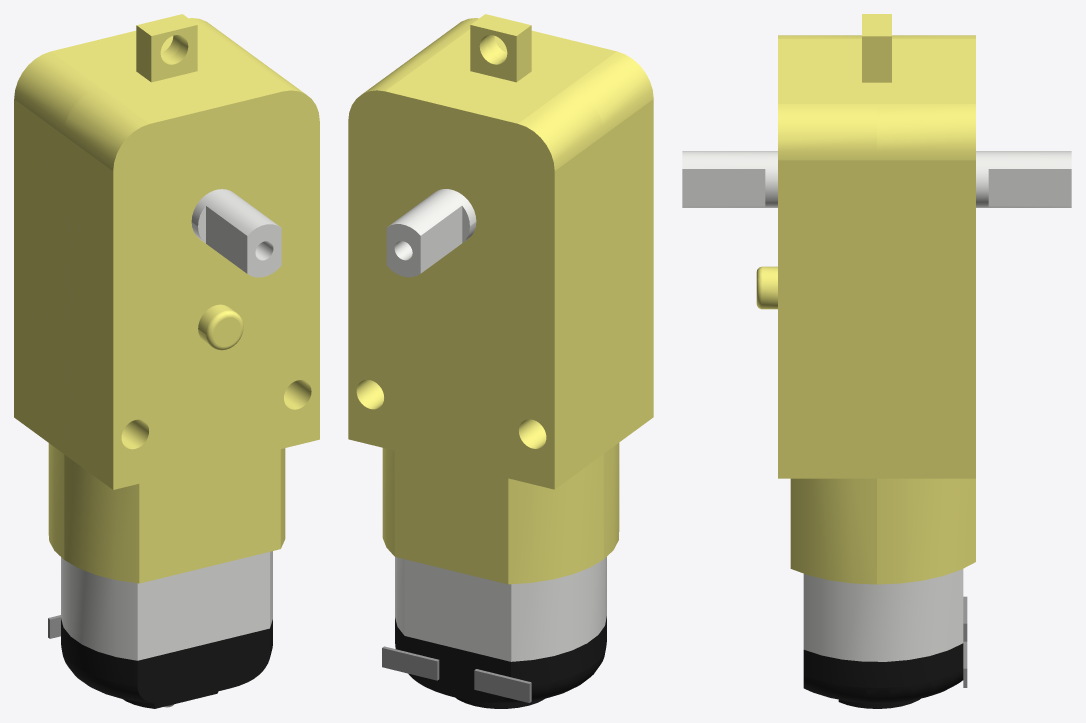
File: ada-3777.glb
3 renders of one model, left to right at view 1: azimuth 30°, elevation 25°; view 2: azimuth 150°, elevation 25°; view 3: azimuth 270°, elevation 25°, orthographic.
Parts seen in each view (by area): view 1: 1_0.9166666666666666_0.25_0, 0.9166666666666666_0.9166666666666666_0.9166666666666666_0.8, 0_0_0_0; view 2: 1_0.9166666666666666_0.25_0, 0.9166666666666666_0.9166666666666666_0.9166666666666666_0.8, 0_0_0_0, 0.3333333333333333_0.3333333333333333_0.3333333333333333_0; view 3: 1_0.9166666666666666_0.25_0, 0.9166666666666666_0.9166666666666666_0.9166666666666666_0.8, 0_0_0_0.
Boxes of the visible parts, box(x1,y1,x2,y2) form: 1_0.9166666666666666_0.25_0: box(14, 14, 319, 583); 0.9166666666666666_0.9166666666666666_0.9166666666666666_0.8: box(61, 189, 281, 707); 0_0_0_0: box(61, 618, 272, 708); 1_0.9166666666666666_0.25_0: box(348, 14, 653, 584); 0.9166666666666666_0.9166666666666666_0.9166666666666666_0.8: box(386, 189, 606, 661); 0_0_0_0: box(395, 616, 606, 708); 0.3333333333333333_0.3333333333333333_0.3333333333333333_0: box(382, 646, 531, 702); 1_0.9166666666666666_0.25_0: box(756, 14, 975, 584); 0.9166666666666666_0.9166666666666666_0.9166666666666666_0.8: box(682, 151, 1071, 661); 0_0_0_0: box(803, 643, 963, 708).
Size of the model in its own units: 2.24 by 7.06 by 3.66.
